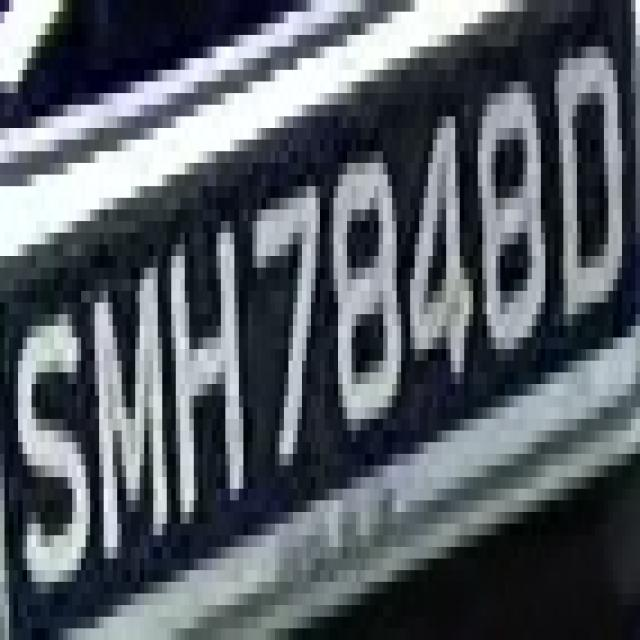4: (401, 93, 482, 407)
7: (234, 163, 324, 500)
8: (311, 105, 410, 442), (464, 81, 546, 384)
D: (554, 0, 635, 372)
H: (162, 174, 248, 582)
M: (77, 221, 171, 594)
S: (14, 267, 99, 594)
